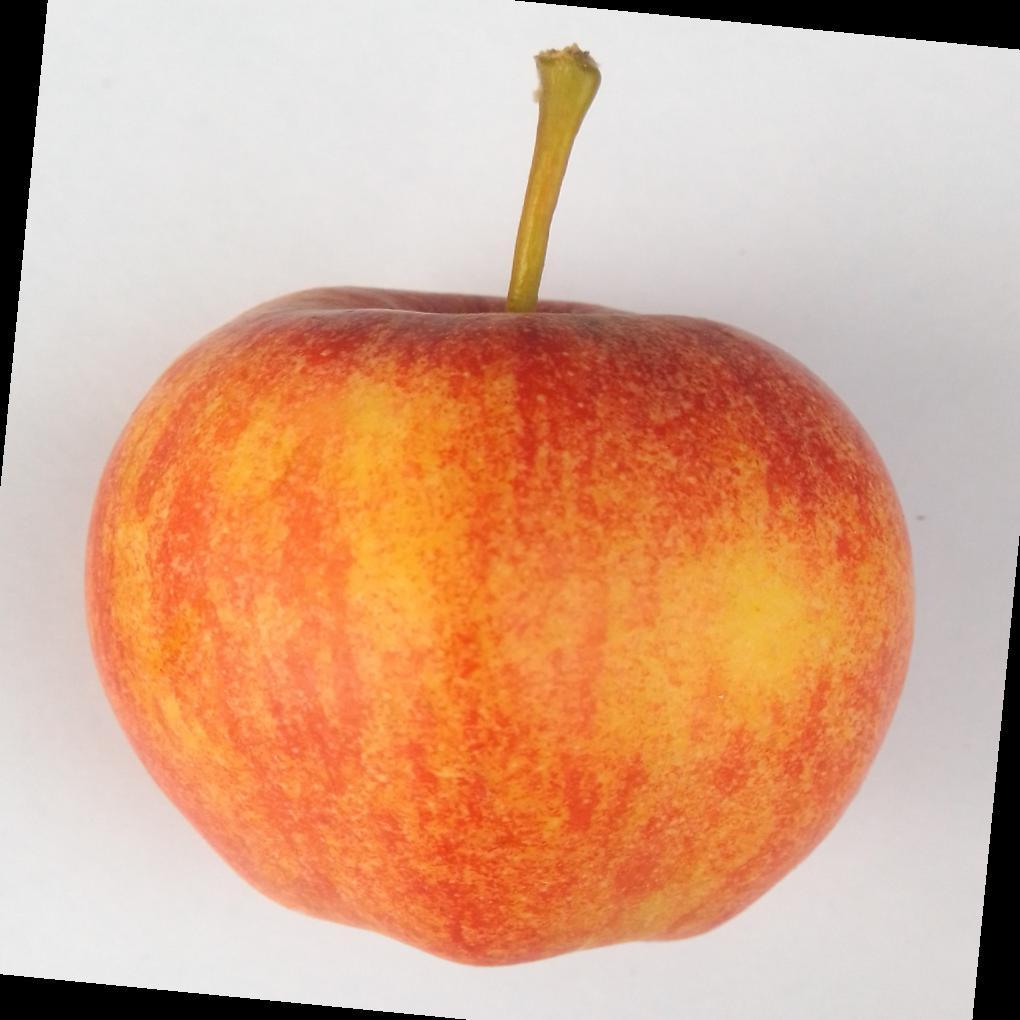FreshGuava: (83, 261, 917, 972)
